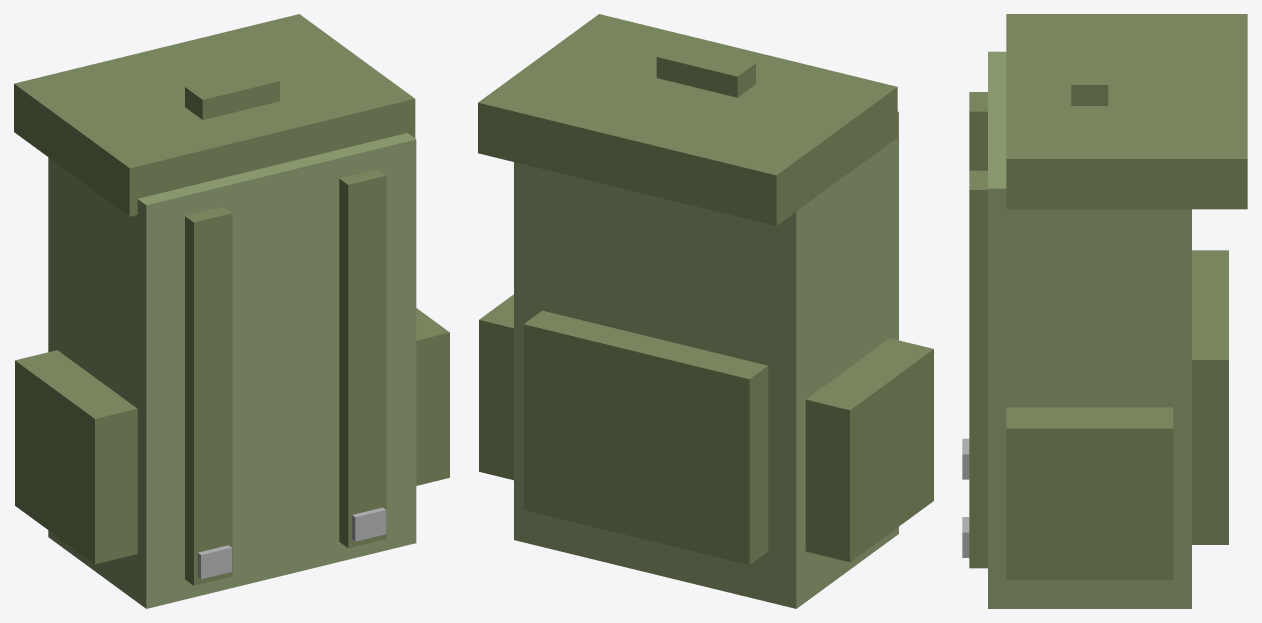
The model's file is Backpack.fbx.
3 views of the same model, side by side, from view 1: azimuth 30°, elevation 25°; view 2: azimuth 150°, elevation 25°; view 3: azimuth 270°, elevation 25° (orthographic). The views are drawn at different scales.
Visible parts, largest first — view 1: BP_Pocket; view 2: BP_Pocket; view 3: BP_Pocket.
Part boxes in pixels (bbox=[...]): BP_Pocket: bbox=[14, 14, 449, 608]; BP_Pocket: bbox=[478, 14, 933, 608]; BP_Pocket: bbox=[962, 14, 1247, 608].
Size of the model in its own units: 0.46 by 0.565 by 0.3075.
